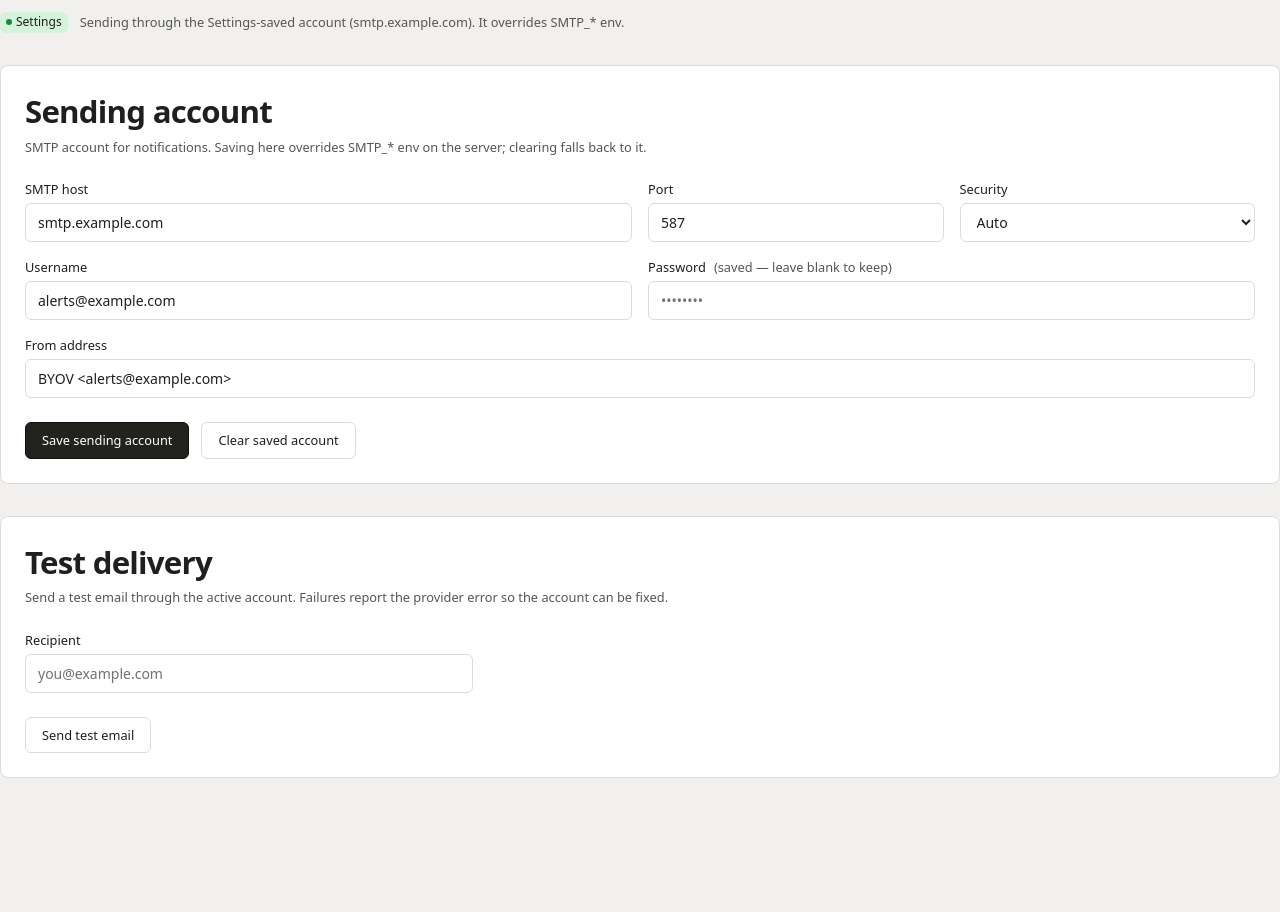
Test: MailSettingsForm › sends a test email and reports the result
Check: the text "Settings" is shown, box x1=0 y1=12 x2=68 y2=33
In the field with test id "mail-test-to": (249, 673) x1=25 y1=654 x2=473 y2=693, type "ada@example.com"
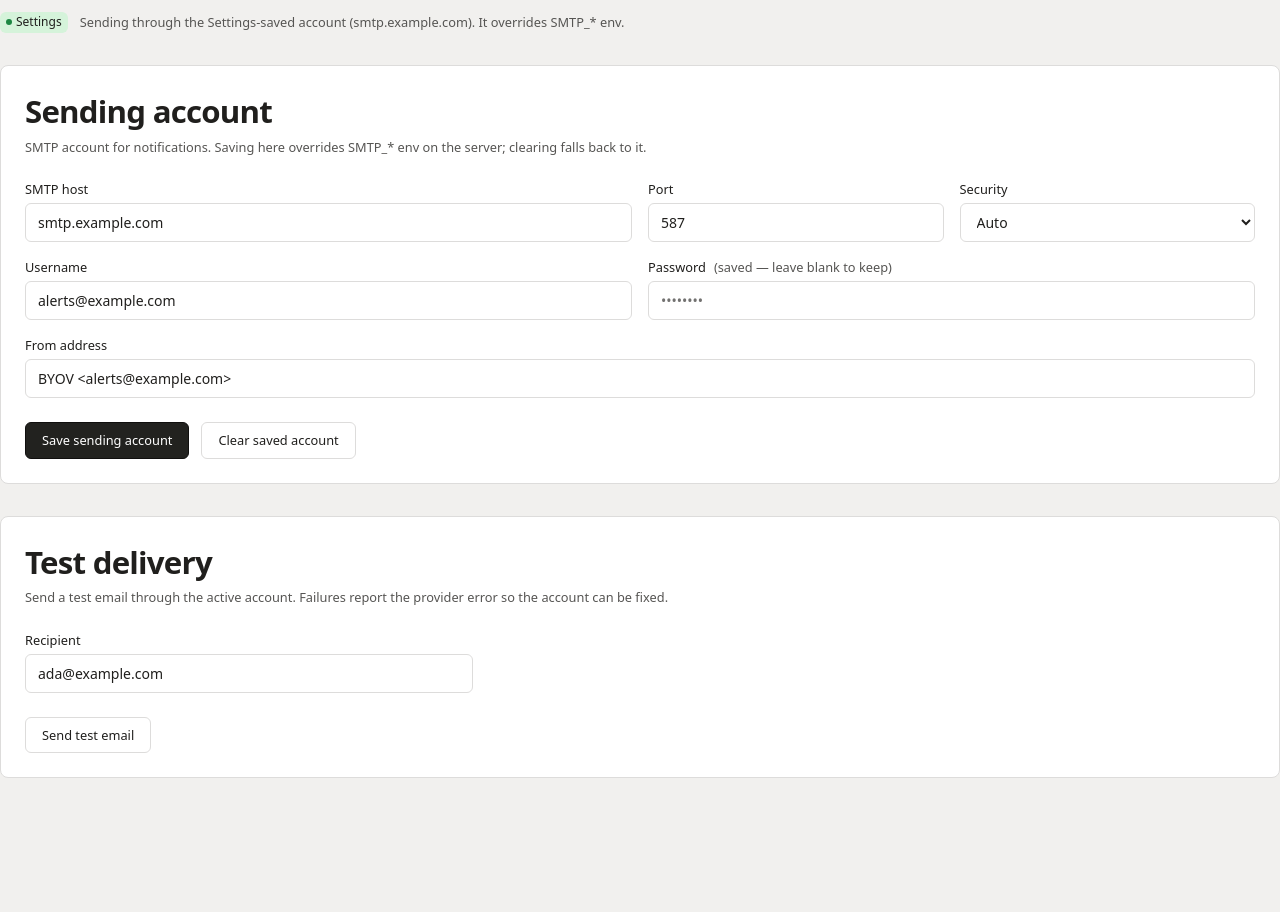
Click the button with test id "mail-test-send": (88, 735) x1=25 y1=717 x2=151 y2=753
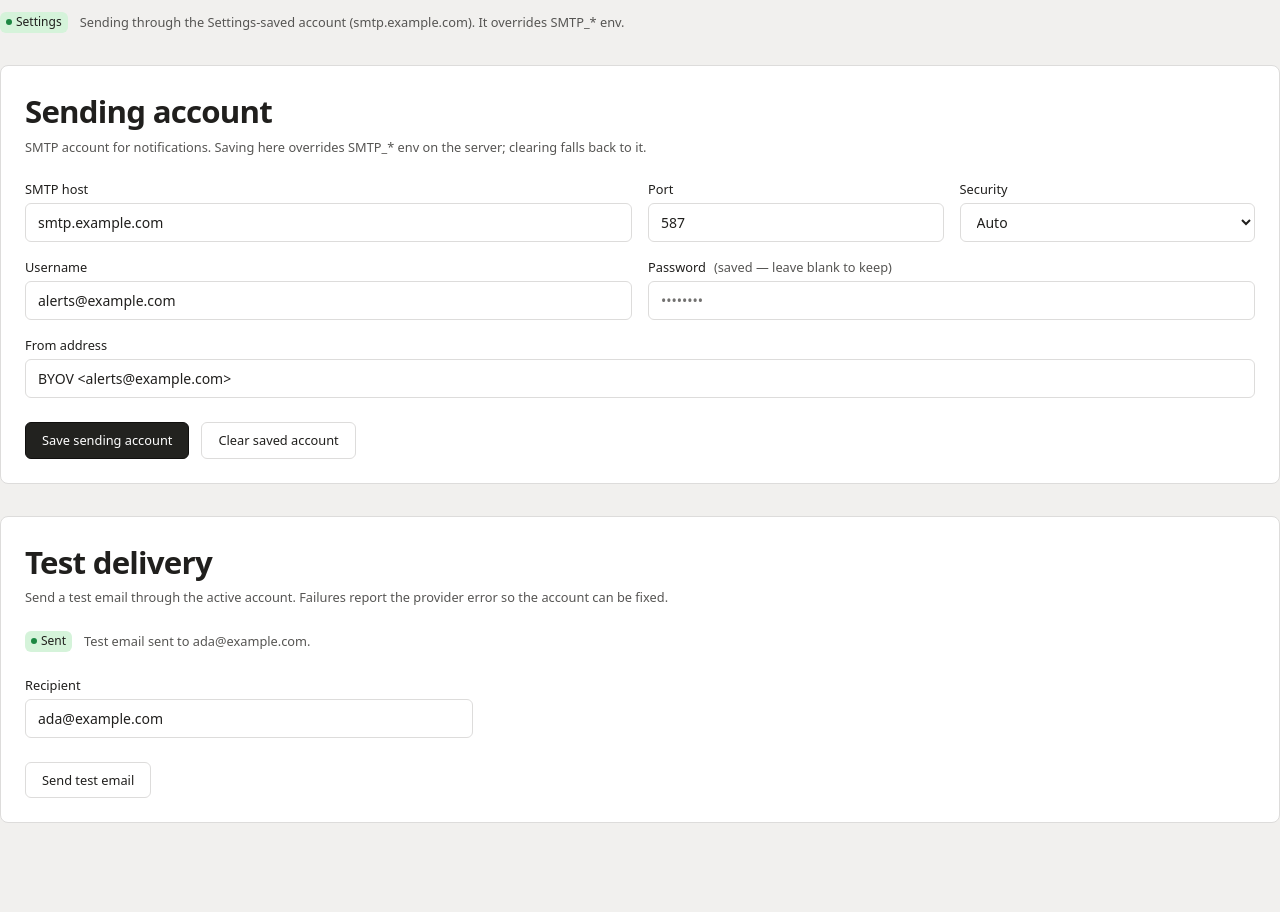
Check: the message with test id "mail-test-result" shows "Test email sent to ada@example.com.", box x1=84 y1=632 x2=310 y2=650
